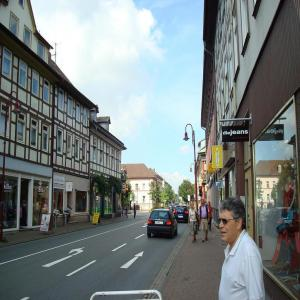Vehicle-registration-plate: (156, 222, 164, 225)
